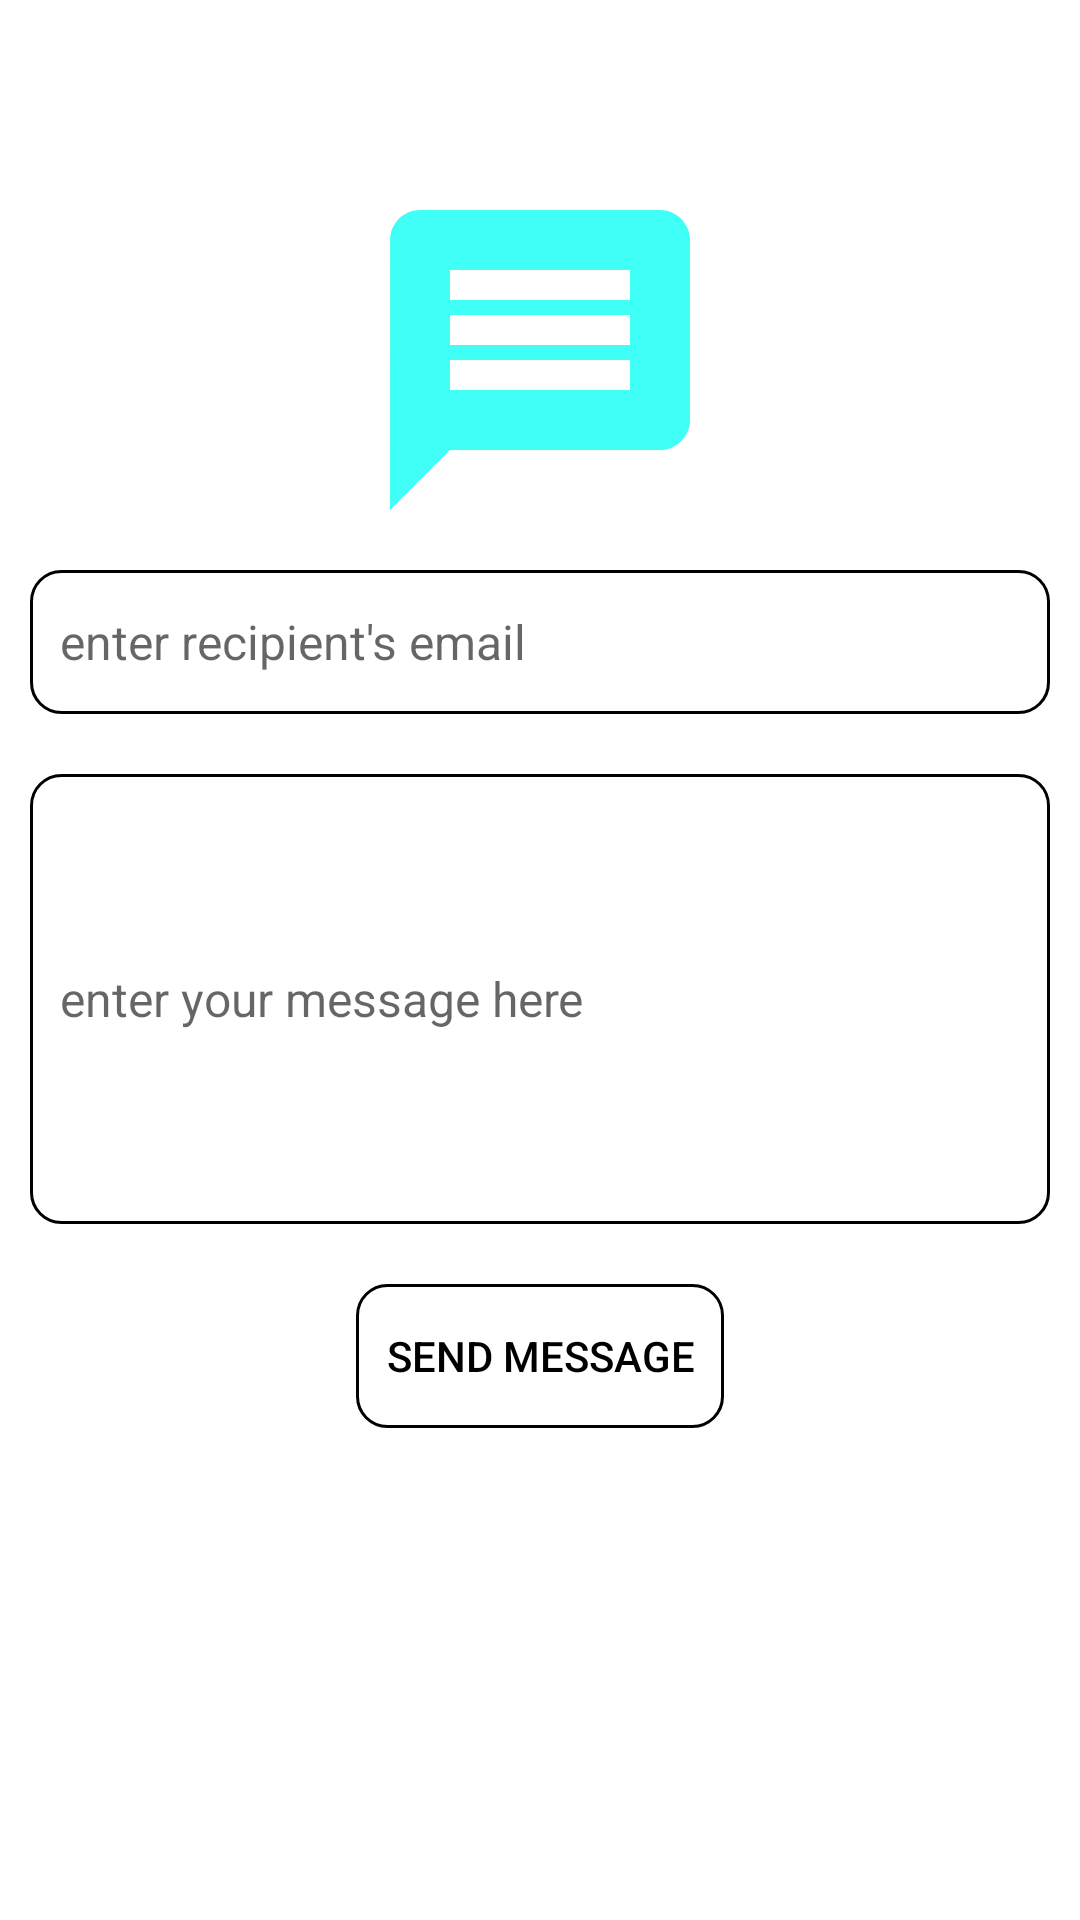

Screen size 1080*1920. Icon name, then its center in pixels as [x,y]:
message: [540,360]
